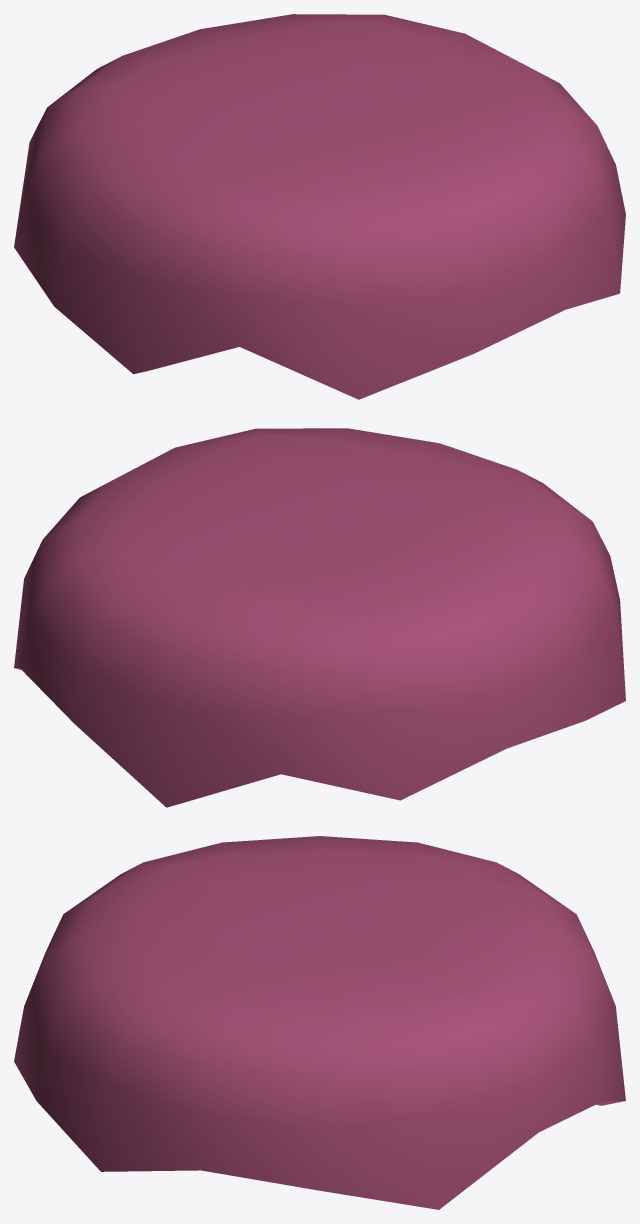
File: Char_Cake_Top.glb
3 renders of one model, top to bottom at view 1: azimuth 30°, elevation 25°; view 2: azimuth 150°, elevation 25°; view 3: azimuth 270°, elevation 25°, orthographic.
Visible parts, largest first — view 1: Char_Cake_Top; view 2: Char_Cake_Top; view 3: Char_Cake_Top.
Part boxes in pixels (<box>): Char_Cake_Top: <box>14,14,625,399</box>; Char_Cake_Top: <box>14,428,625,807</box>; Char_Cake_Top: <box>14,836,625,1209</box>.
Bounding box in the file's own units: 1.55 × 0.5171 × 1.55.
